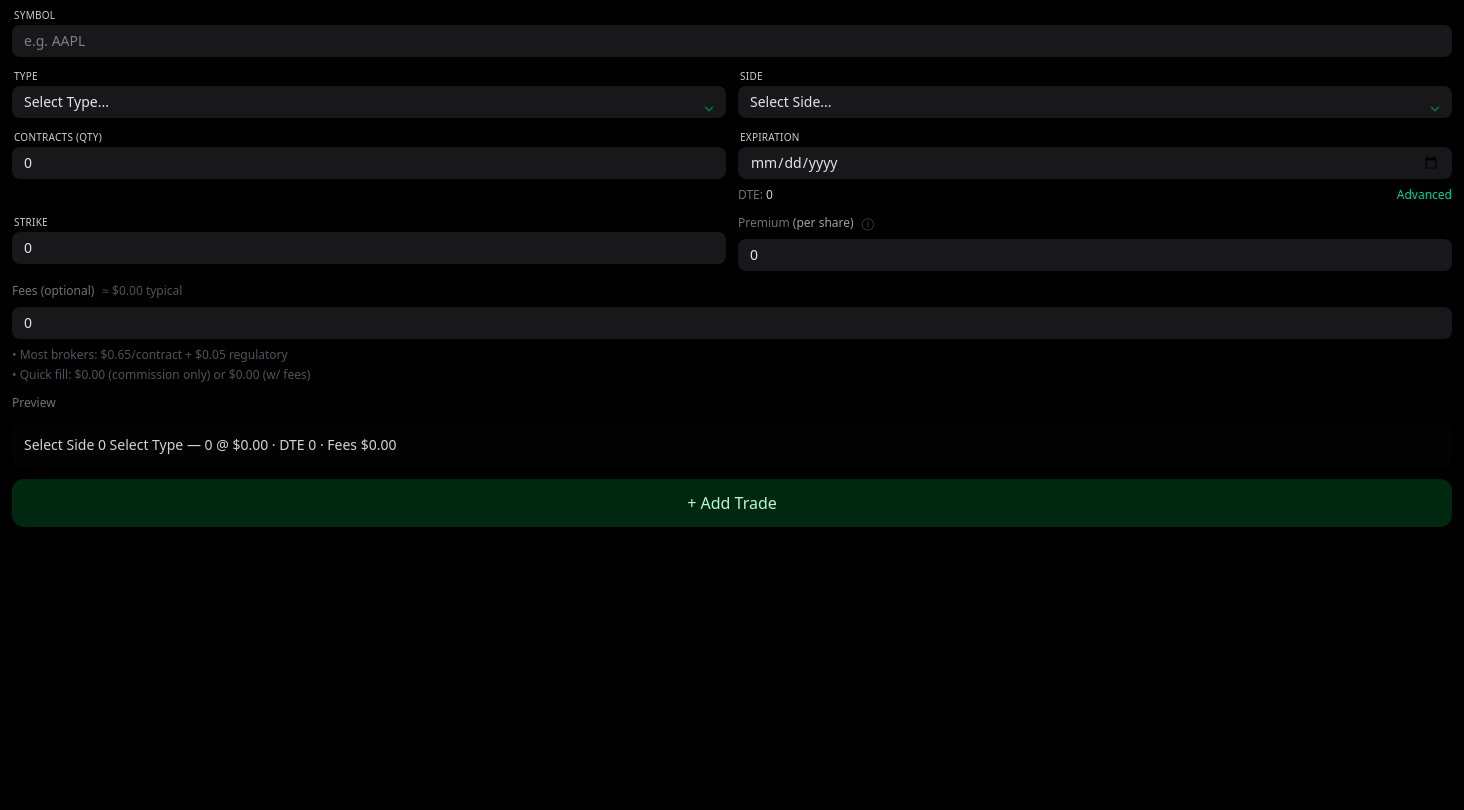
Test: TradeTab - DTE Feature › toggles Advanced input visibility
The width and height of the screenshot is (1464, 810).
Check: the field labelled "DTE (advanced)" is not shown
// Click Advanced button
Click the button "Advanced": x=1424, y=195 x1=1397 y1=187 x2=1452 y2=203
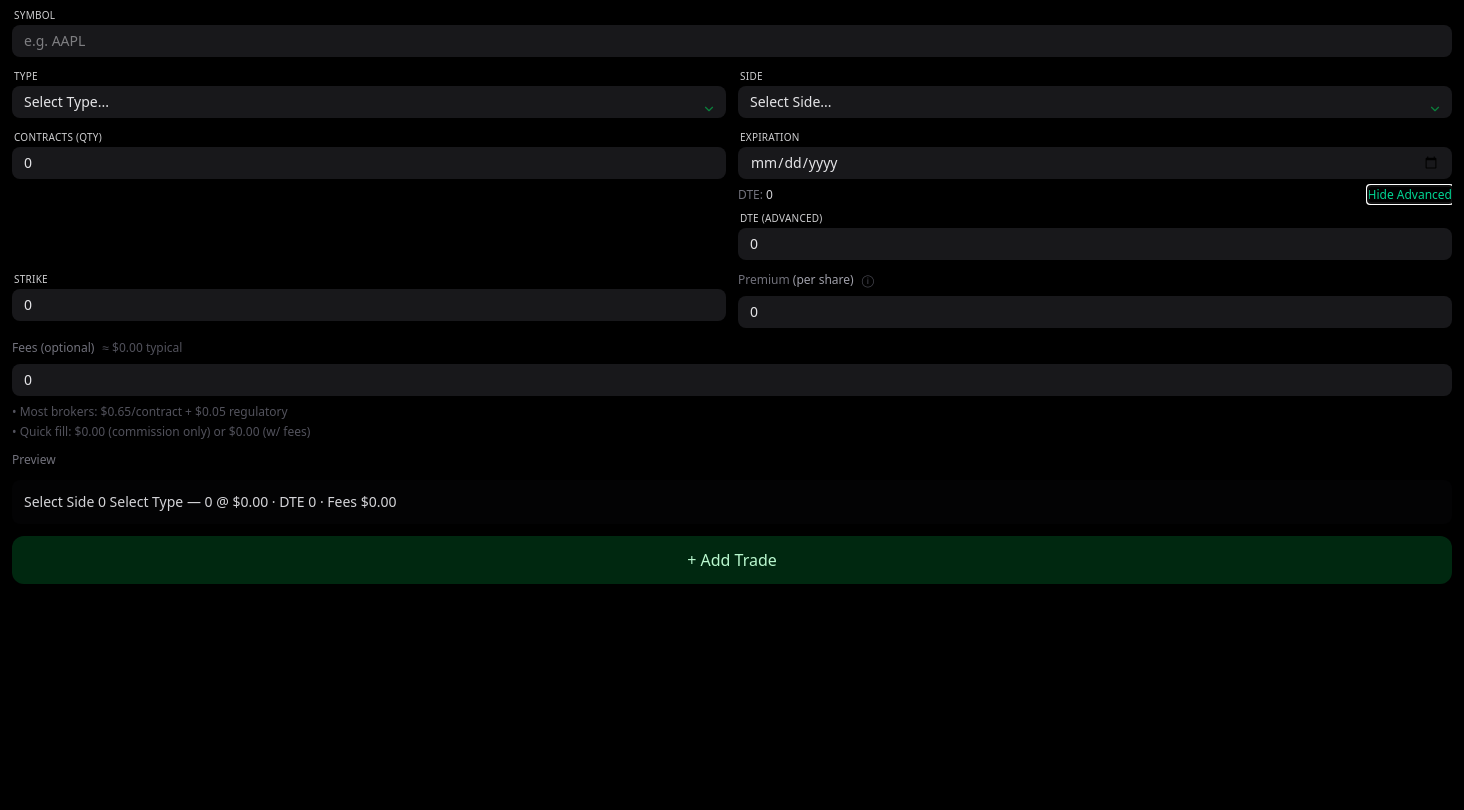
Check: the number field labelled "DTE (advanced)" is shown, box x1=738 y1=228 x2=1452 y2=260
Check: the button "Hide Advanced" is shown, box x1=1368 y1=187 x2=1452 y2=203
